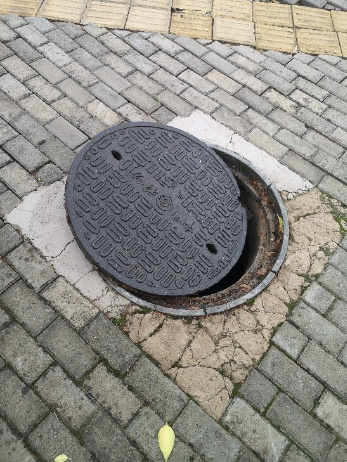uncovered: (65, 123, 290, 317)
